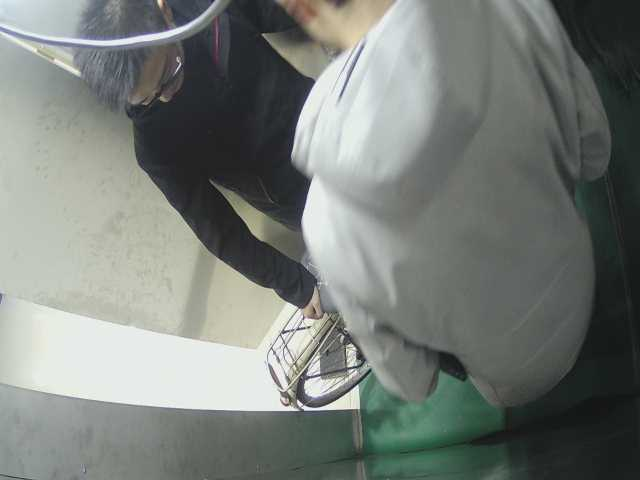bicycle: (272, 248, 396, 422)
person: (95, 1, 364, 335)
